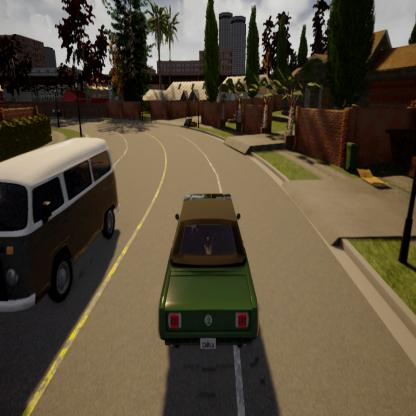Cars: (0, 93, 125, 338), (147, 160, 275, 367)
